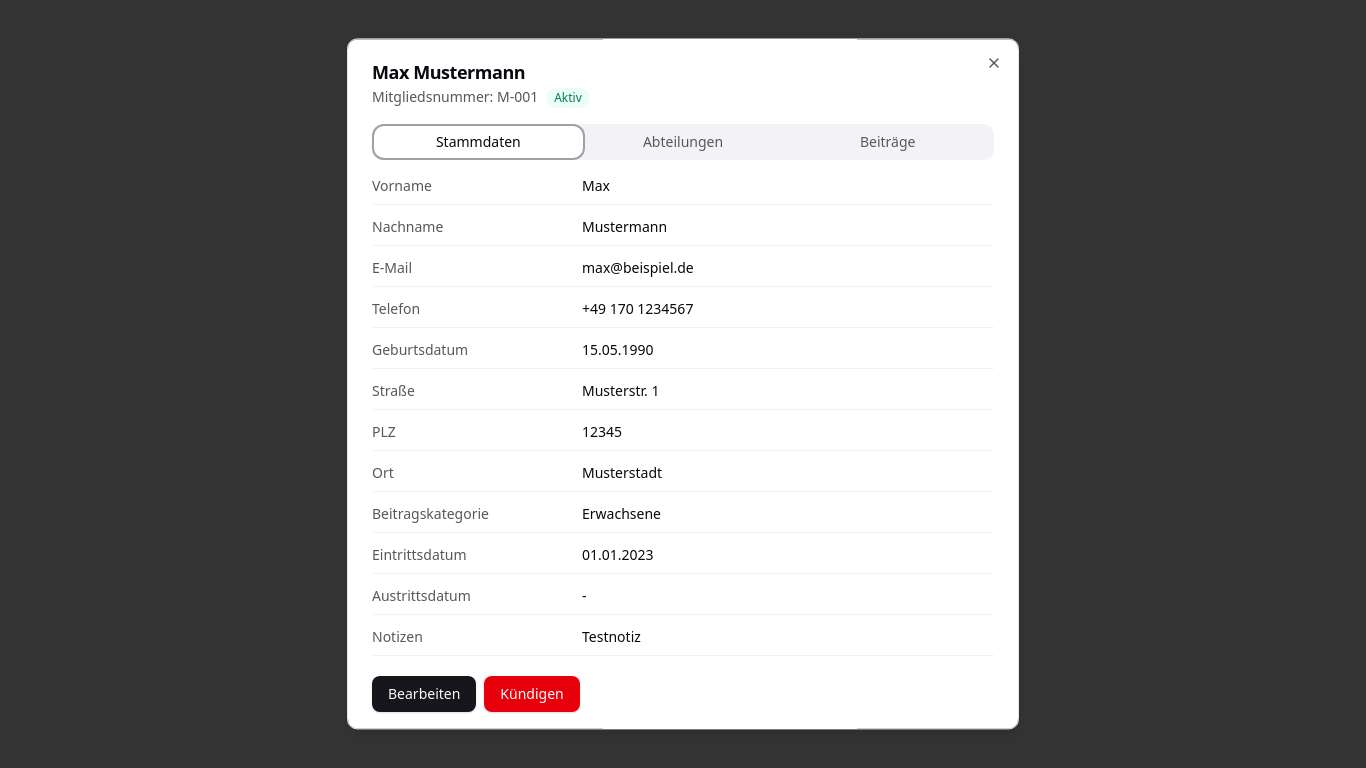
Scenario: MemberDetail › shows departments in the Abteilungen tab
The image size is (1366, 768).
Step 1. Click the tab "Abteilungen" → coordinates (683, 142), box [581,128,785,156]
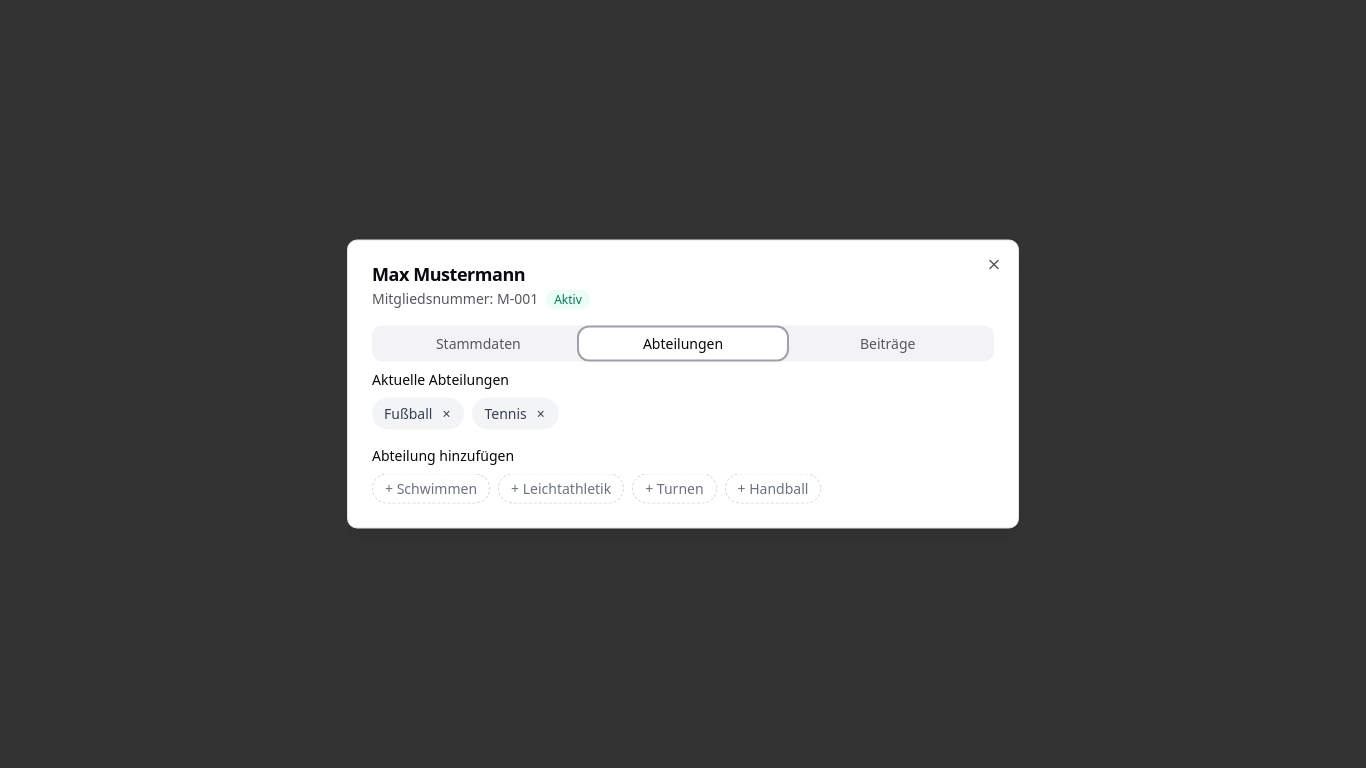
Now the text "Fußball" is shown, box [384,404,432,422]
Now the text "Tennis" is shown, box [484,404,527,422]
